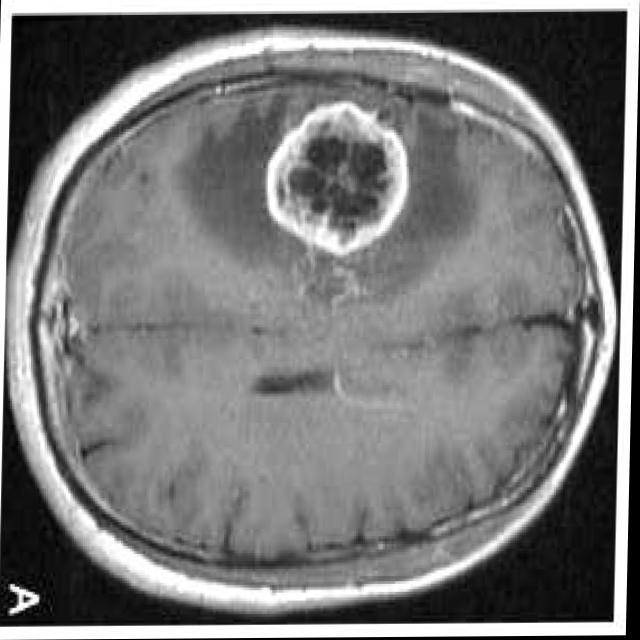Tumor: (265, 102, 409, 258)
